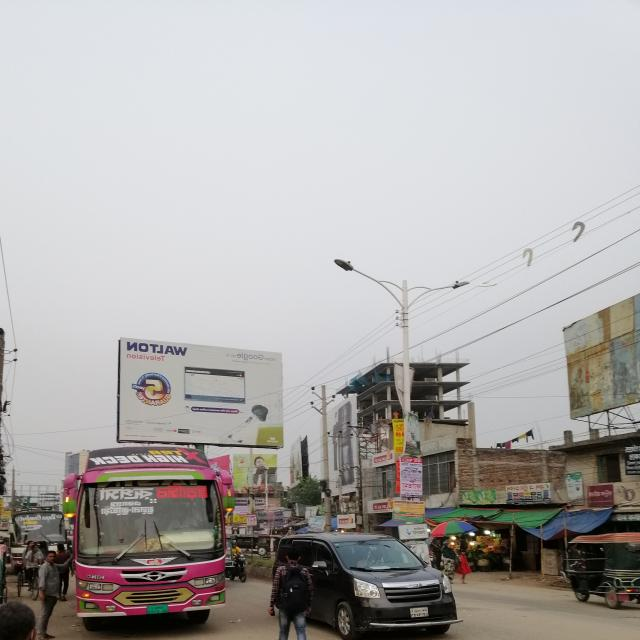Bus: (57, 427, 246, 638)
Car: (274, 513, 487, 640)
